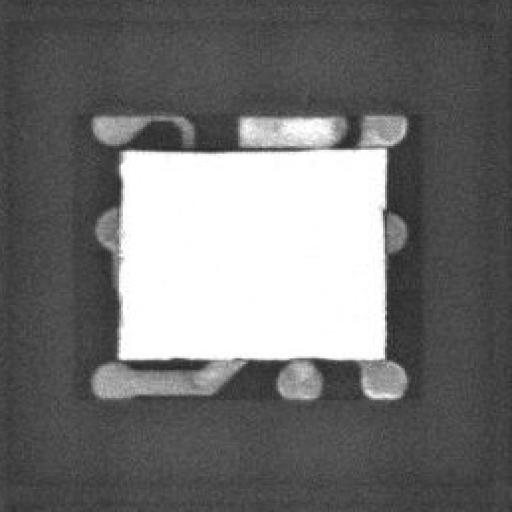DIE_BROKEN: (137, 140, 308, 154)
